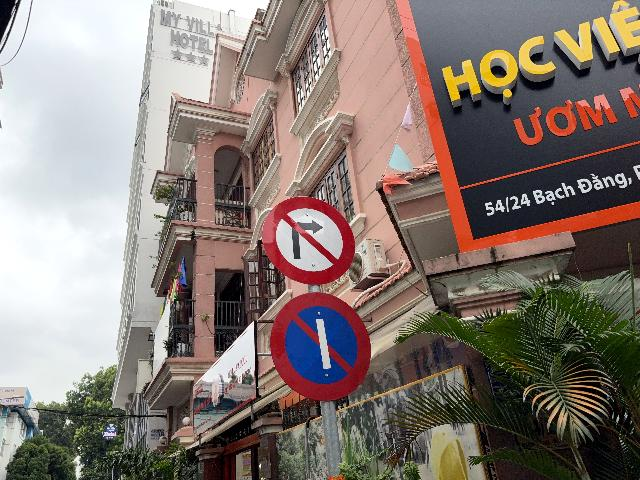cam-do-xe-ngay-le: (270, 292, 371, 401)
cam-re-phai: (262, 195, 356, 285)
